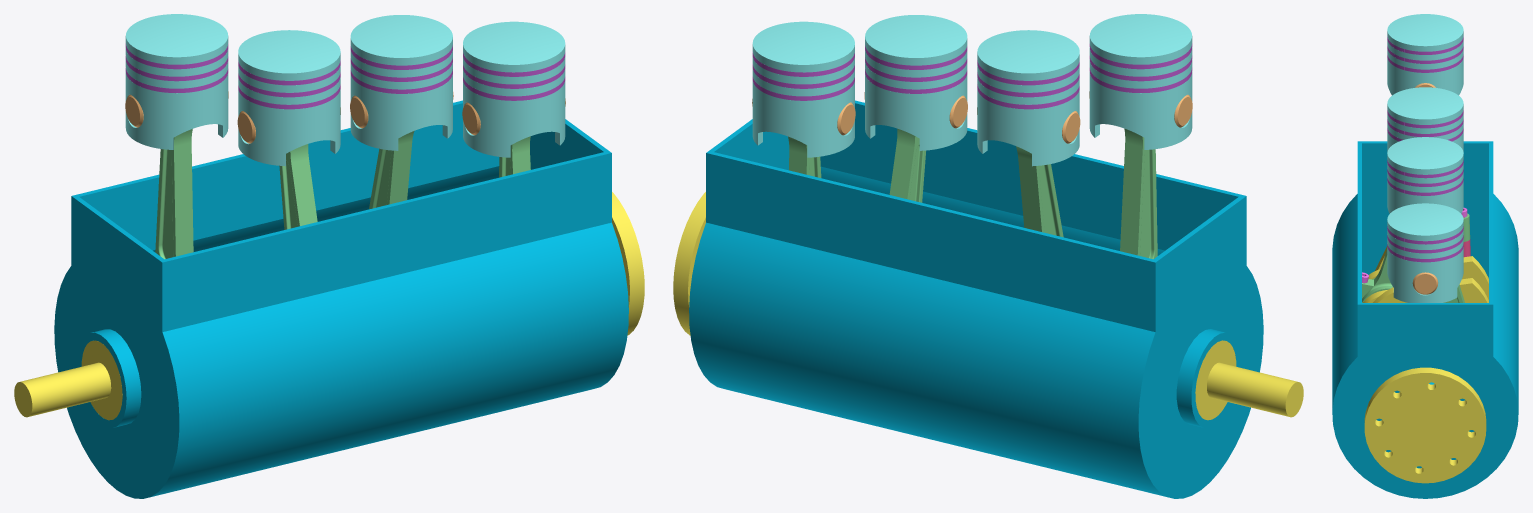
File: Engine_Motion_Study_sample0_colored.glb
3 views of the same model, side by side, from view 1: azimuth 30°, elevation 25°; view 2: azimuth 150°, elevation 25°; view 3: azimuth 270°, elevation 25° (orthographic). The views are drawn at different scales.
Parts seen in each view (by area): view 1: Lower block-1, Piston Assembly-5/piston-1, Piston Assembly-1/piston-1, Piston Assembly-4/piston-1, Piston Assembly-2/piston-1, crankshaft-1, connecting rod-5, connecting rod-4, connecting rod-2, connecting rod-1; view 2: Lower block-1, Piston Assembly-5/piston-1, Piston Assembly-1/piston-1, Piston Assembly-2/piston-1, Piston Assembly-4/piston-1, crankshaft-1, connecting rod-5, connecting rod-4, connecting rod-2, connecting rod-1; view 3: Lower block-1, crankshaft-1, Piston Assembly-1/piston-1, Piston Assembly-5/piston-1, Piston Assembly-2/piston-1, Piston Assembly-4/piston-1, connecting rod-4, piston pin-1, Piston Assembly-5/piston ring-2, Piston Assembly-5/piston ring-4, Piston Assembly-2/piston ring-1, Piston Assembly-2/piston ring-2 (+7 smaller).
Boxes of the visible parts, x1,y1,x2,y2 form: Lower block-1: [54, 100, 628, 498]; Piston Assembly-5/piston-1: [125, 14, 228, 149]; Piston Assembly-1/piston-1: [463, 21, 565, 157]; Piston Assembly-4/piston-1: [238, 30, 340, 166]; Piston Assembly-2/piston-1: [350, 15, 452, 150]; crankshaft-1: [14, 192, 644, 420]; connecting rod-5: [155, 129, 193, 259]; connecting rod-4: [279, 144, 317, 229]; connecting rod-2: [369, 131, 414, 209]; connecting rod-1: [499, 136, 530, 177]; Lower block-1: [689, 100, 1263, 498]; Piston Assembly-5/piston-1: [1089, 14, 1192, 149]; Piston Assembly-1/piston-1: [752, 21, 854, 157]; Piston Assembly-2/piston-1: [865, 15, 967, 150]; Piston Assembly-4/piston-1: [977, 30, 1079, 166]; crankshaft-1: [673, 192, 1303, 420]; connecting rod-5: [1120, 128, 1157, 259]; connecting rod-4: [1016, 146, 1063, 237]; connecting rod-2: [889, 128, 925, 202]; connecting rod-1: [788, 136, 821, 177]; Lower block-1: [1332, 141, 1518, 498]; crankshaft-1: [1363, 246, 1488, 483]; Piston Assembly-1/piston-1: [1387, 203, 1463, 302]; Piston Assembly-5/piston-1: [1387, 14, 1463, 95]; Piston Assembly-2/piston-1: [1387, 137, 1463, 213]; Piston Assembly-4/piston-1: [1387, 87, 1463, 151]; connecting rod-4: [1362, 249, 1392, 302]; piston pin-1: [1412, 272, 1438, 294]; Piston Assembly-5/piston ring-2: [1387, 45, 1463, 63]; Piston Assembly-5/piston ring-4: [1387, 36, 1463, 54]; Piston Assembly-2/piston ring-1: [1387, 177, 1463, 195]; Piston Assembly-2/piston ring-2: [1387, 168, 1463, 186].
Bounding box in the file's own units: 0.589 × 0.4284 × 0.2199.
